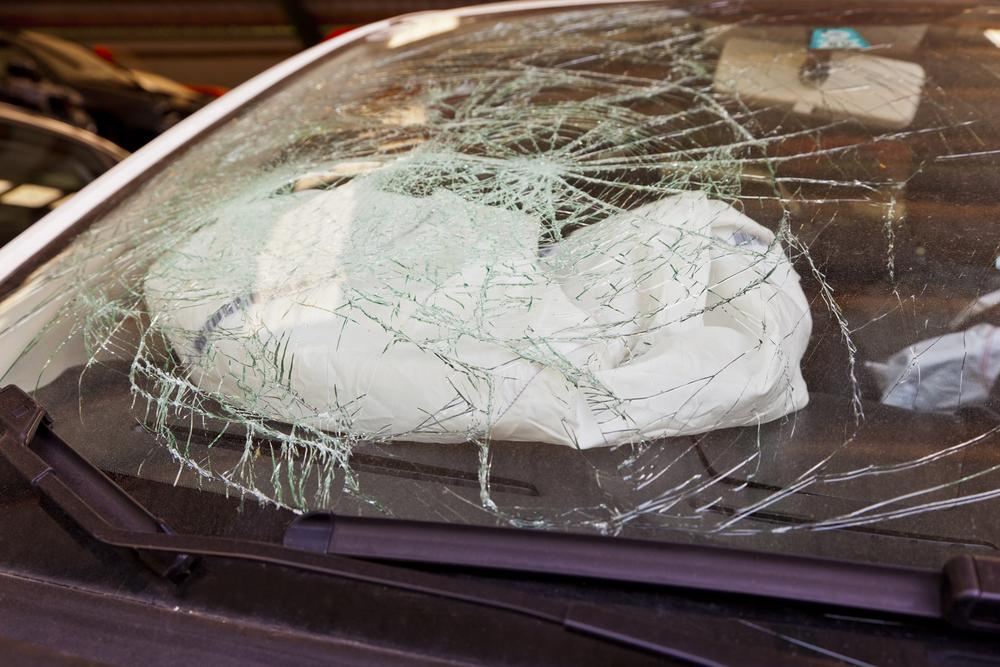glass shatter: (0, 0, 1000, 568)
